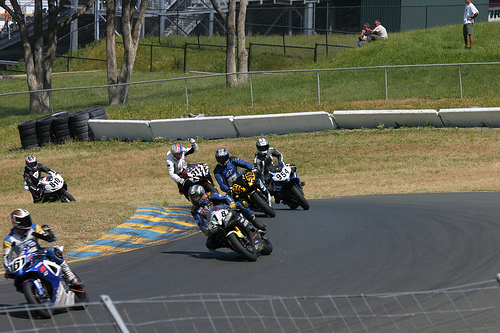helmet: (12, 206, 31, 226), (188, 185, 206, 203), (256, 137, 272, 152), (216, 149, 229, 164), (25, 155, 38, 166), (172, 144, 181, 156)
